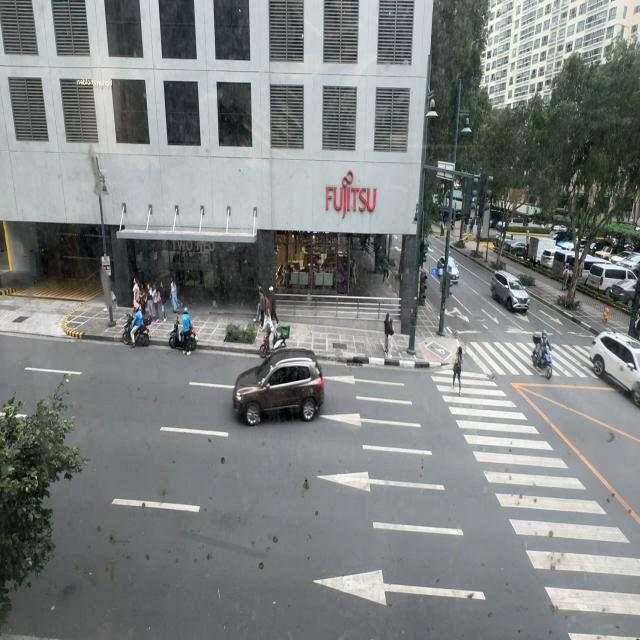crossing: (452, 347, 464, 395)
pedestrain: (262, 284, 278, 339), (382, 311, 392, 357), (254, 285, 265, 325), (147, 283, 157, 323), (134, 278, 142, 312)
